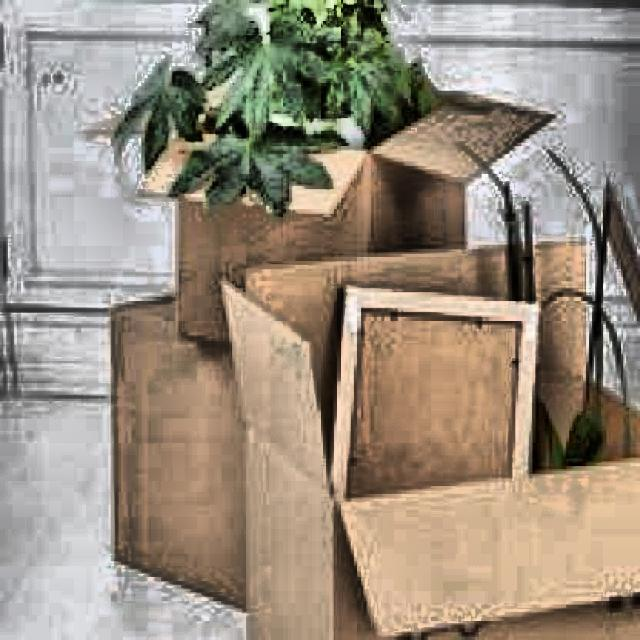Cardbox: (209, 244, 640, 640)
